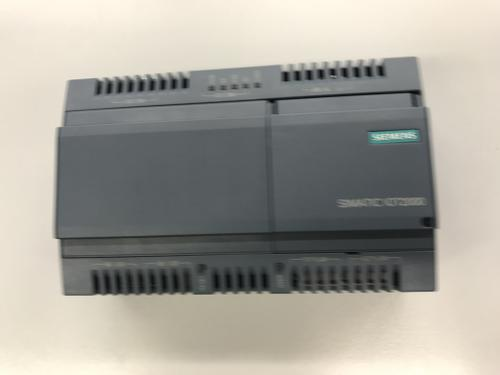device: (54, 57, 439, 297)
